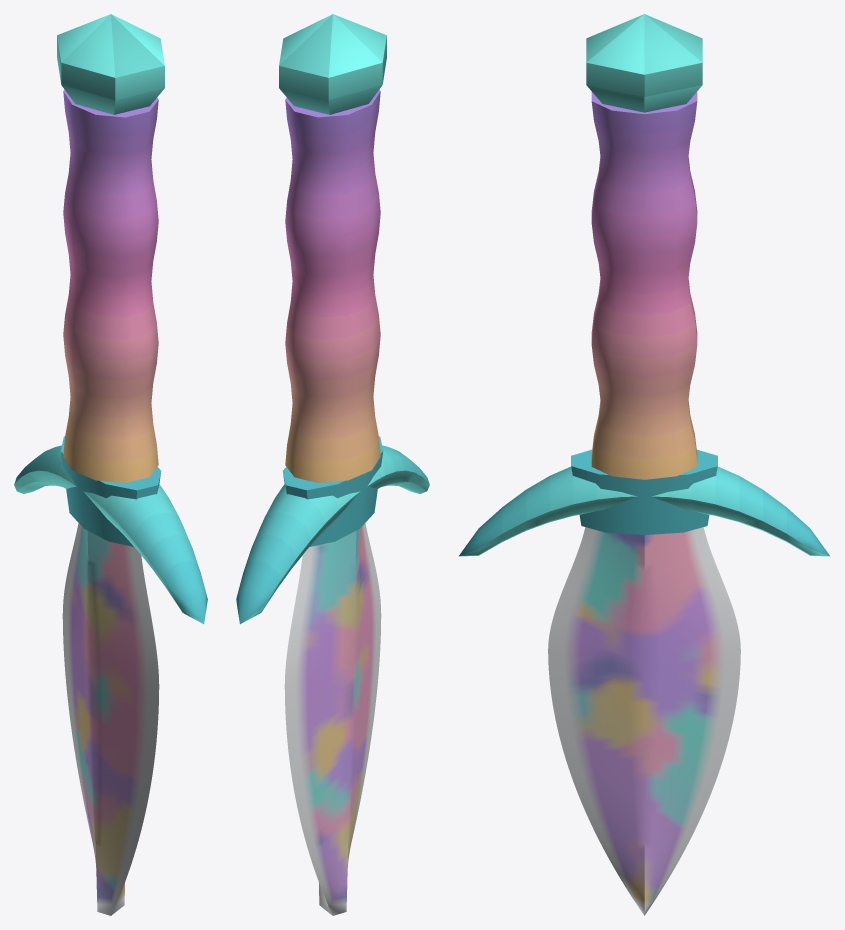
File: Melee_Dagger.glb
3 views of the same model, side by side, from view 1: azimuth 30°, elevation 25°; view 2: azimuth 150°, elevation 25°; view 3: azimuth 270°, elevation 25° (orthographic).
Parts seen in each view (by area): view 1: Handle, Blade, Guard; view 2: Handle, Blade, Guard; view 3: Blade, Handle, Guard.
Boxes of the visible parts, bbox=[...] form: Handle: bbox=[63, 89, 158, 483]; Blade: bbox=[62, 523, 159, 915]; Guard: bbox=[14, 14, 207, 624]; Handle: bbox=[285, 89, 380, 483]; Blade: bbox=[284, 523, 381, 915]; Guard: bbox=[236, 14, 429, 624]; Blade: bbox=[548, 527, 740, 915]; Handle: bbox=[591, 92, 697, 479]; Guard: bbox=[459, 14, 829, 556].
Size of the model in its own units: 0.256 by 2.22 by 0.83.
